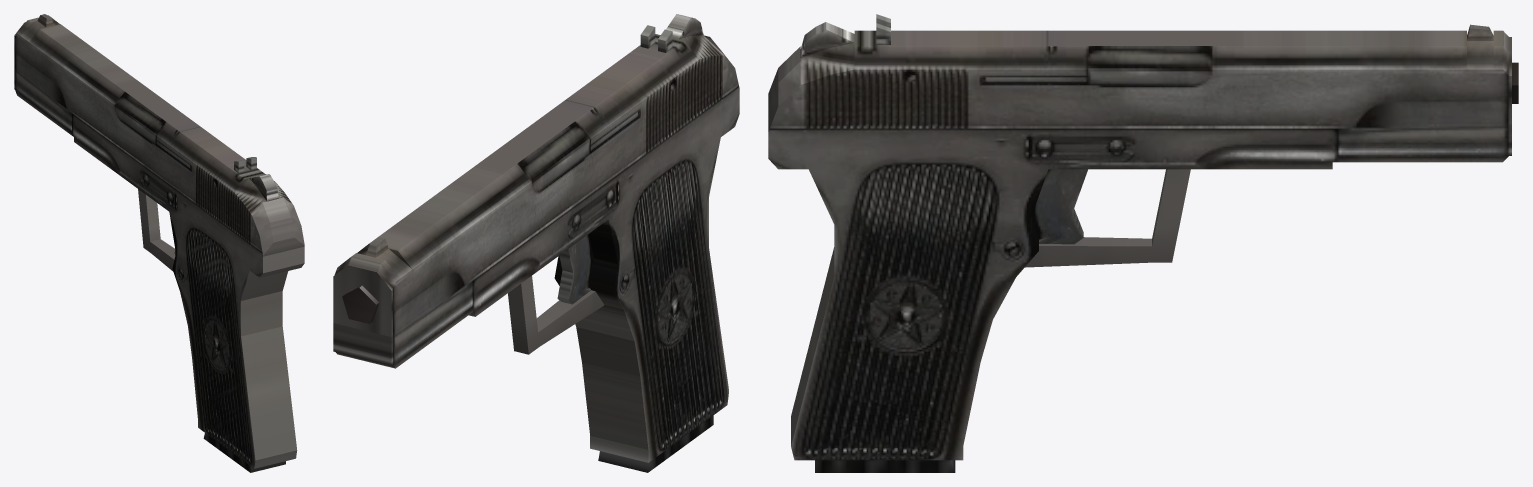
The model's file is tokarev.obj.
3 views of the same model, side by side, from view 1: azimuth 30°, elevation 25°; view 2: azimuth 150°, elevation 25°; view 3: azimuth 270°, elevation 25° (orthographic). The views are drawn at different scales.
Visible parts, largest first — view 1: gun, slide, mag; view 2: gun, slide, mag, barrel; view 3: gun, slide, mag.
Part boxes in pixels (x1=…): gun: x1=14, y1=69, x2=304, y2=468; slide: x1=14, y1=14, x2=304, y2=256; mag: x1=203, y1=433, x2=285, y2=472; gun: x1=333, y1=91, x2=739, y2=462; slide: x1=333, y1=14, x2=739, y2=337; mag: x1=598, y1=415, x2=713, y2=472; barrel: x1=342, y1=285, x2=379, y2=323; gun: x1=768, y1=125, x2=1511, y2=460; slide: x1=768, y1=14, x2=1511, y2=135; mag: x1=815, y1=460, x2=955, y2=472.
Bounding box in the file's own units: 0.4654 × 3.14 × 4.85.
1 material, 1 textured.
